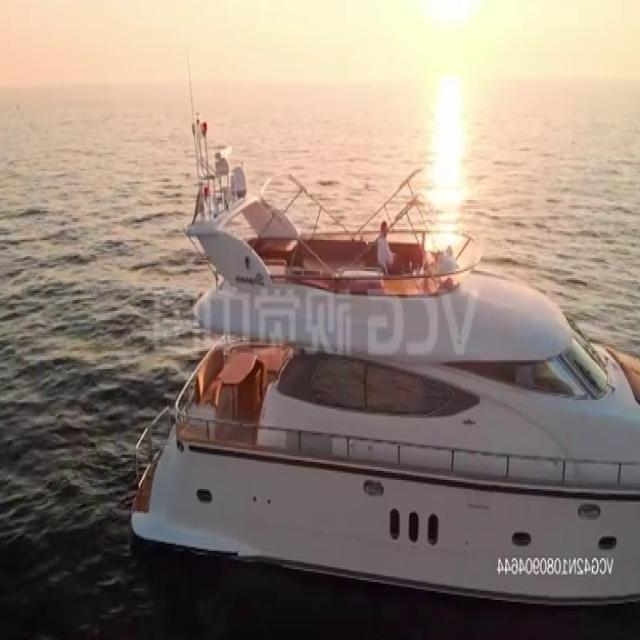houseboat: (127, 112, 640, 592)
